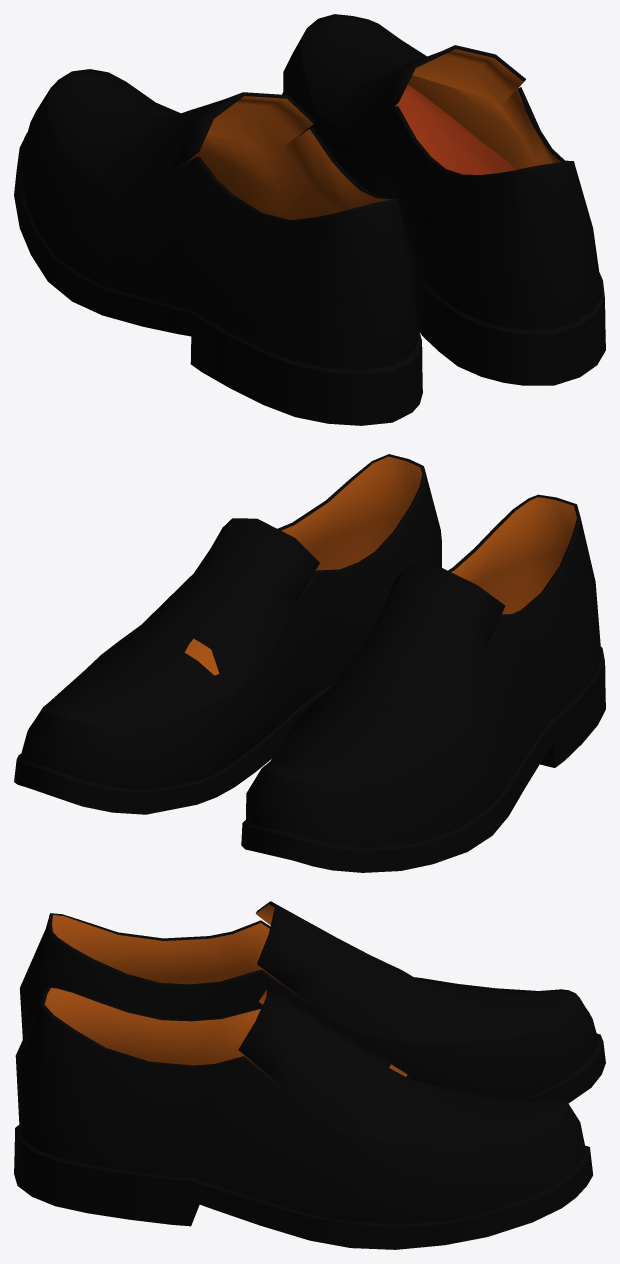
The model's file is mocassin.obj.
The picture shows the model from 3 angles, top to bottom: view 1: azimuth 30°, elevation 25°; view 2: azimuth 150°, elevation 25°; view 3: azimuth 270°, elevation 25°; orthographic projection. The views are drawn at different scales.
Visible parts, largest first — view 1: Plane, Plane.001; view 2: Plane, Plane.001; view 3: Plane.001, Plane.
Boxes of the visible parts, left/top/right/bottom form: Plane: left=14, top=69, right=422, bottom=425; Plane.001: left=282, top=14, right=605, bottom=385; Plane: left=241, top=494, right=605, bottom=872; Plane.001: left=14, top=454, right=441, bottom=814; Plane.001: left=14, top=986, right=592, bottom=1249; Plane: left=19, top=901, right=605, bottom=1103.
Bounding box in the file's own units: 22.19 × 10.48 × 28.3.
